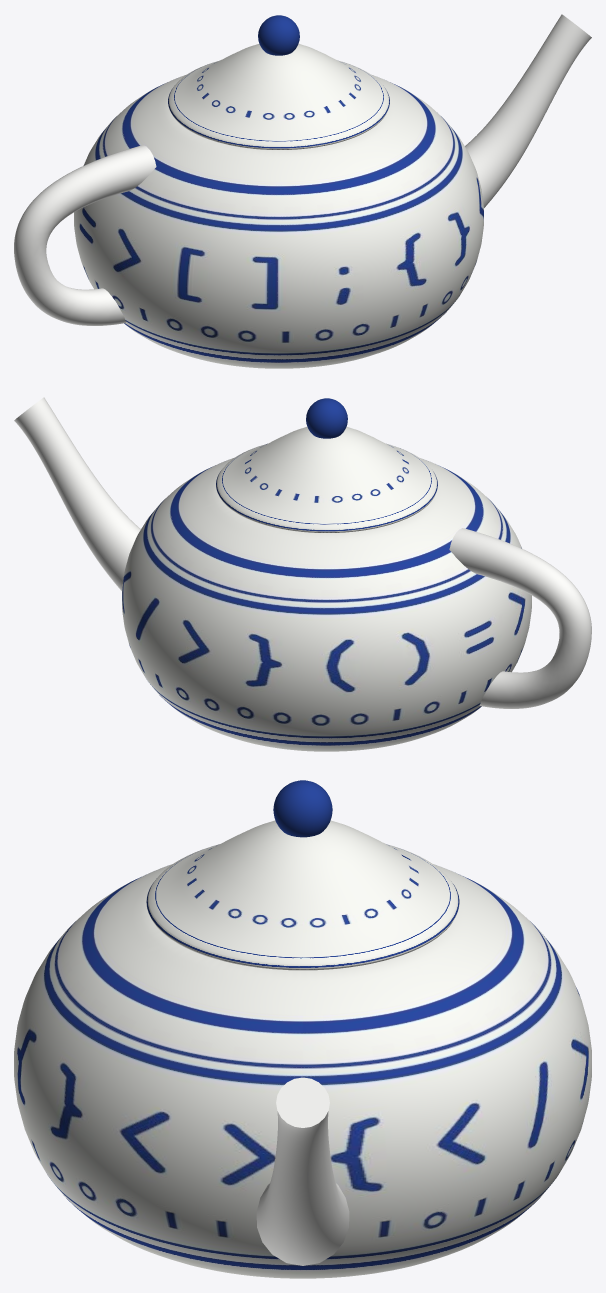
Rendered from teapot.glb.
The picture shows the model from 3 angles, top to bottom: view 1: azimuth 30°, elevation 25°; view 2: azimuth 150°, elevation 25°; view 3: azimuth 270°, elevation 25°; orthographic projection. The views are drawn at different scales.
Parts seen in each view (by area): view 1: TeapotBody, Lid, Handle, Spout, Knob; view 2: TeapotBody, Lid, Handle, Spout, Knob; view 3: TeapotBody, Lid, Spout, Knob.
Boxes of the visible parts, box(x1,y1,x2,y2) form: TeapotBody: box(74, 74, 483, 368); Lid: box(168, 43, 389, 149); Handle: box(14, 145, 156, 325); Spout: box(465, 14, 591, 207); Knob: box(258, 15, 299, 55); TeapotBody: box(122, 457, 531, 751); Lid: box(216, 427, 437, 532); Handle: box(449, 528, 591, 708); Spout: box(14, 397, 140, 590); Knob: box(306, 398, 347, 438); TeapotBody: box(14, 864, 591, 1278); Lid: box(146, 820, 459, 970); Spout: box(256, 1077, 349, 1265); Knob: box(273, 780, 332, 837).
Bounding box in the file's own units: 1.73 × 0.8546 × 1.07.
4 materials, 2 textured.
